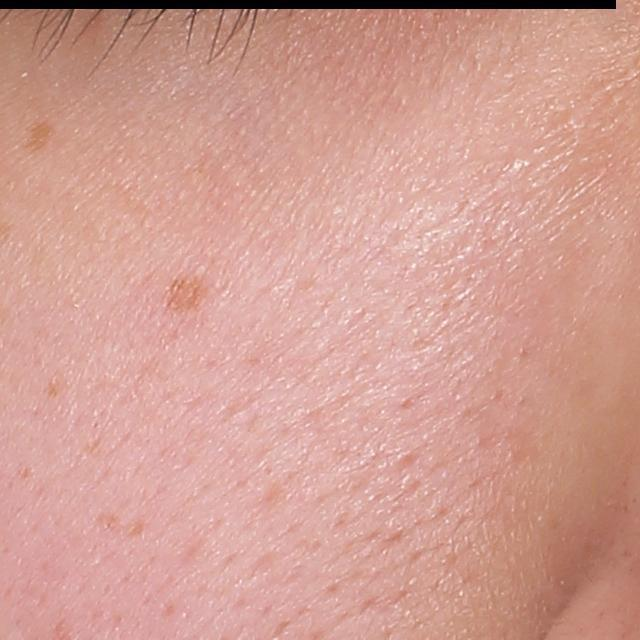melasma: (163, 273, 214, 317), (21, 114, 57, 153), (43, 370, 70, 400)
